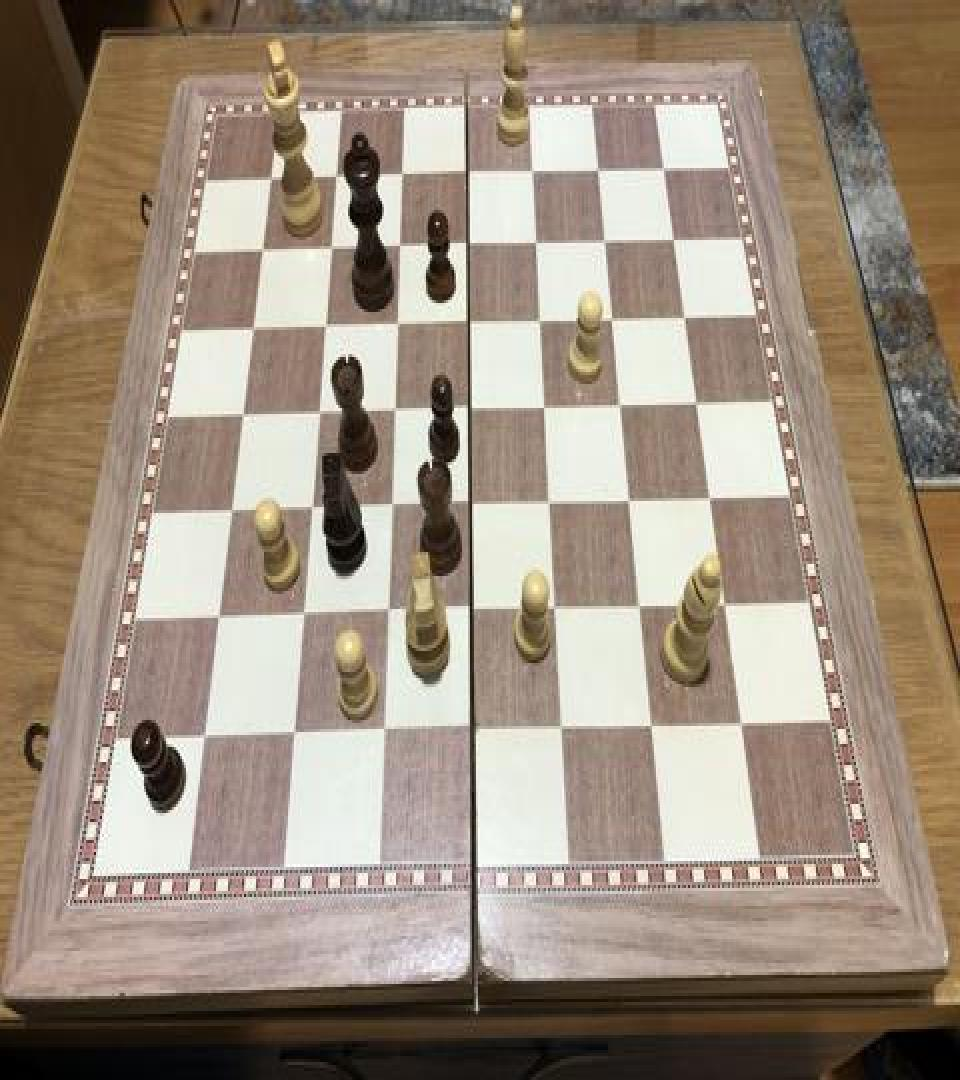xcorner: (712, 586, 736, 623), (376, 595, 400, 632), (461, 712, 485, 749), (652, 154, 676, 190), (587, 158, 611, 194), (522, 159, 546, 195), (456, 160, 480, 196), (391, 162, 415, 198), (326, 164, 350, 200), (261, 165, 285, 201), (662, 225, 686, 261), (593, 226, 617, 262), (525, 228, 549, 264), (457, 231, 481, 267), (389, 232, 413, 268), (320, 234, 344, 270), (252, 236, 276, 272), (672, 302, 696, 338), (601, 303, 625, 339), (529, 306, 553, 342), (458, 308, 482, 344), (386, 309, 410, 345), (314, 312, 338, 348), (243, 314, 267, 350), (684, 387, 708, 423), (609, 388, 633, 424), (534, 390, 558, 426), (458, 393, 482, 429), (383, 394, 407, 430), (307, 398, 331, 434), (232, 399, 256, 435), (698, 482, 722, 518), (618, 483, 642, 519), (539, 484, 563, 520), (459, 488, 483, 524), (380, 489, 404, 525), (300, 492, 324, 528), (220, 494, 244, 530), (628, 588, 652, 624), (544, 591, 568, 627), (460, 592, 484, 628), (291, 597, 315, 633), (207, 600, 231, 636), (729, 705, 753, 741), (640, 706, 664, 742), (550, 710, 574, 746), (371, 714, 395, 750), (282, 717, 306, 753), (192, 720, 216, 756)
